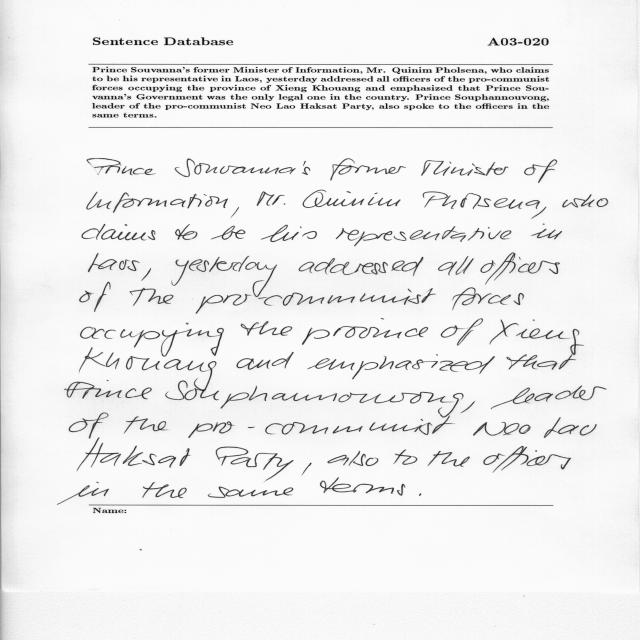word: (165, 375, 464, 418), (57, 482, 408, 505), (196, 288, 436, 314), (189, 415, 454, 438), (80, 323, 224, 357), (307, 354, 495, 379), (174, 256, 277, 297), (80, 348, 217, 374), (336, 226, 512, 246), (78, 439, 191, 470), (423, 191, 547, 219), (302, 318, 428, 345), (490, 320, 585, 355), (87, 192, 228, 213), (491, 385, 606, 409), (216, 447, 293, 482), (480, 253, 560, 285), (175, 159, 310, 177), (483, 446, 571, 473), (299, 257, 423, 276), (303, 190, 401, 208), (330, 159, 406, 181), (452, 288, 524, 311), (65, 380, 152, 399), (320, 478, 405, 496), (421, 160, 508, 176), (82, 224, 156, 240), (441, 318, 483, 346), (87, 159, 156, 176), (507, 354, 577, 370), (544, 417, 597, 438), (130, 281, 174, 306), (236, 352, 294, 370), (70, 413, 109, 439), (260, 225, 317, 242), (89, 253, 140, 272), (208, 487, 293, 498), (80, 282, 111, 312), (473, 422, 531, 436), (524, 159, 557, 183), (241, 321, 292, 336), (328, 451, 379, 466), (124, 417, 168, 434), (142, 482, 187, 498), (427, 451, 470, 467), (438, 256, 474, 275), (211, 226, 246, 240), (562, 194, 595, 208), (257, 191, 286, 206), (394, 449, 418, 465), (175, 224, 198, 240), (531, 229, 562, 239), (461, 401, 476, 413), (141, 268, 151, 281), (302, 463, 312, 475), (597, 198, 608, 207), (231, 207, 239, 217), (419, 493, 421, 496)
